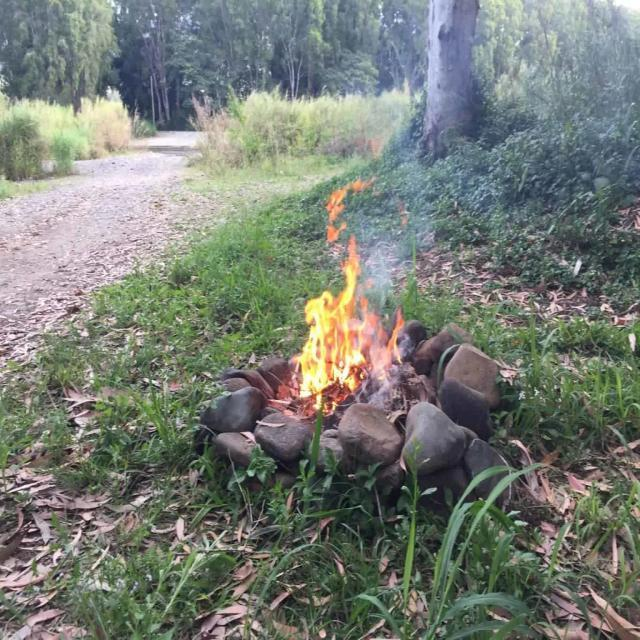Fire: (278, 240, 421, 410)
